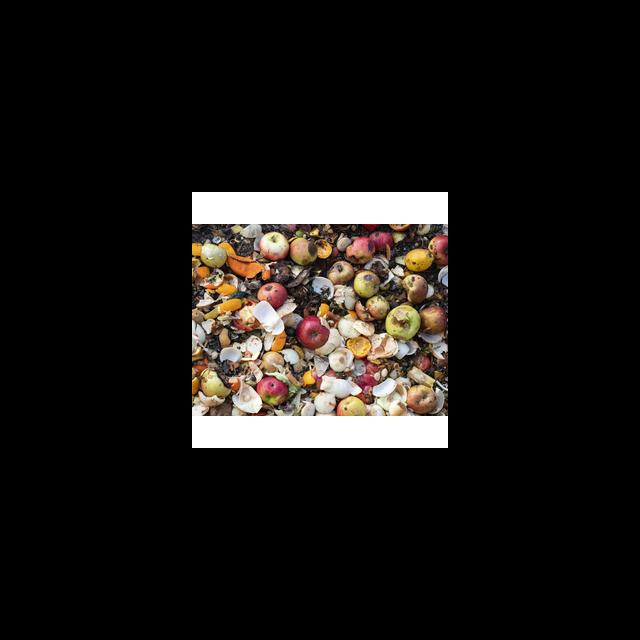food_waste: (193, 224, 448, 414)
